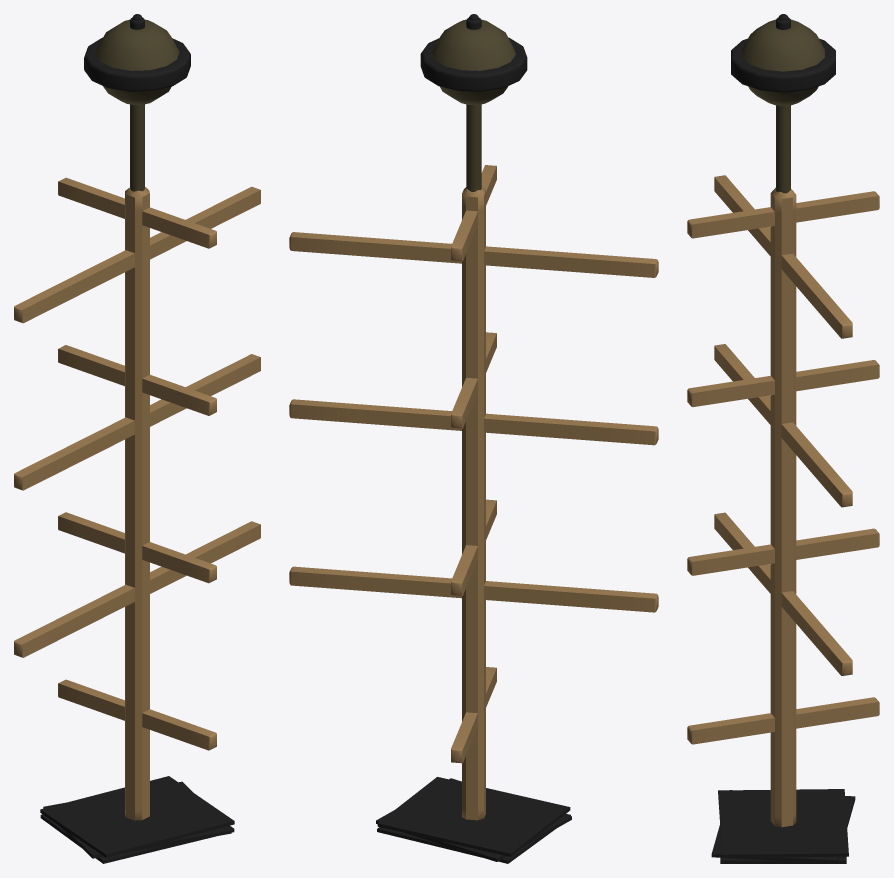
File: limestone final.fbx
3 renders of one model, left to right at view 1: azimuth 30°, elevation 25°; view 2: azimuth 150°, elevation 25°; view 3: azimuth 270°, elevation 25°, orthographic.
Visible parts, largest first — view 1: pole, base, floating_sphere; view 2: pole, base, floating_sphere; view 3: pole, base, floating_sphere.
Part boxes in pixels (<box>): pole: <box>14,177,260,820</box>; base: <box>40,776,234,863</box>; floating_sphere: <box>84,14,190,191</box>; pole: <box>289,165,658,820</box>; base: <box>376,777,571,863</box>; floating_sphere: <box>420,14,527,191</box>; pole: <box>687,175,879,827</box>; base: <box>711,789,855,863</box>; floating_sphere: <box>731,14,835,193</box>.
Bounding box in the file's own units: 266 × 672 × 144.
